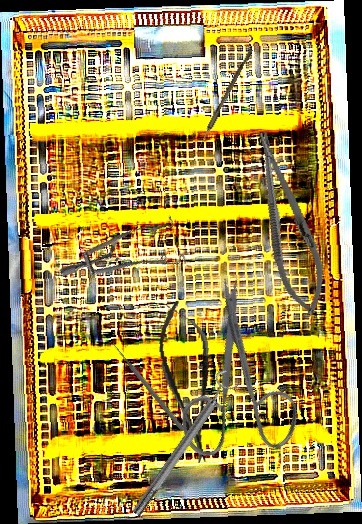Fixation Ring: (124, 367, 243, 521)
Iris Scissors: (120, 269, 342, 493)
Micro Scissor: (150, 297, 226, 467)
Needle Holder: (240, 125, 336, 320)
Pusher: (110, 340, 186, 433)
Speculum: (57, 188, 202, 332)
Surgical Spoon: (192, 47, 253, 159)
